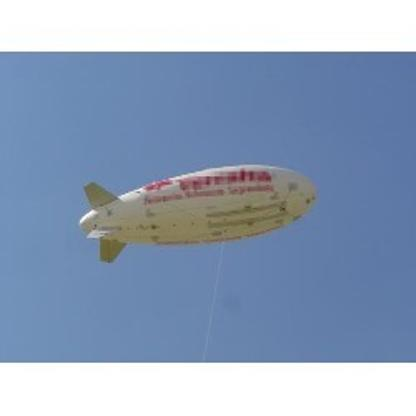Airship: (74, 161, 318, 276)
